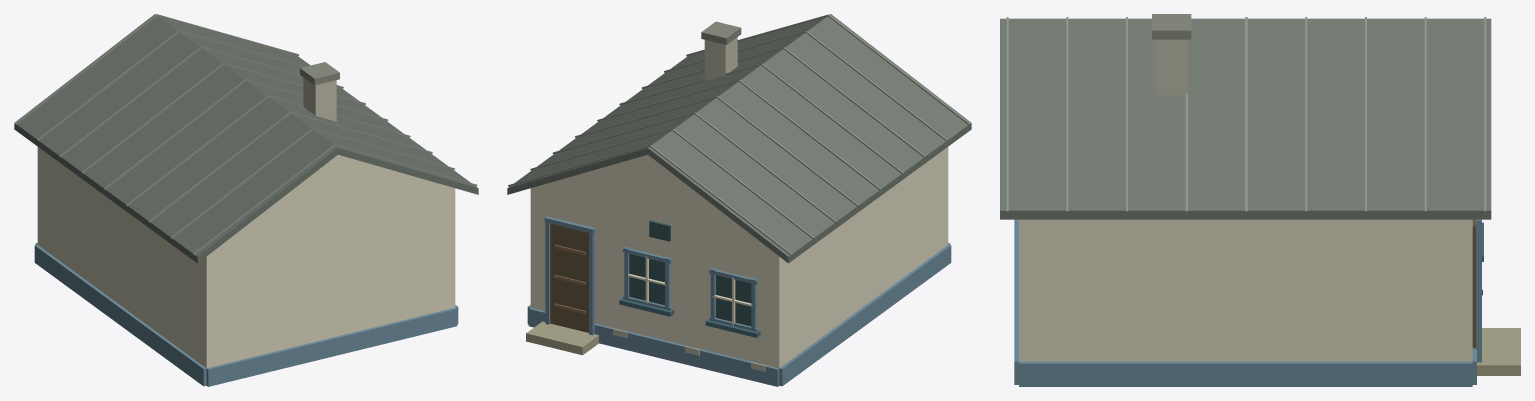
Rendered from ua_whitewashed_house.obj.
The picture shows the model from 3 angles, left to right: view 1: azimuth 30°, elevation 25°; view 2: azimuth 150°, elevation 25°; view 3: azimuth 270°, elevation 25°; orthographic projection. The views are drawn at different scales.
Visible parts, largest first — view 1: ua_whitewashed_house; view 2: ua_whitewashed_house; view 3: ua_whitewashed_house.
Boxes of the visible parts, bbox=[...] form: ua_whitewashed_house: bbox=[14, 14, 478, 386]; ua_whitewashed_house: bbox=[507, 14, 971, 386]; ua_whitewashed_house: bbox=[1000, 14, 1520, 386].
Size of the model in its own units: 5.81 by 4.55 by 6.89.
